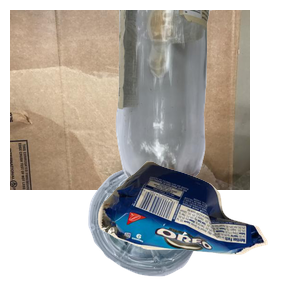cardboard: (10, 10, 250, 190)
glass: (113, 10, 300, 190)
plastic: (86, 163, 282, 300)
trash: (95, 158, 300, 300)
